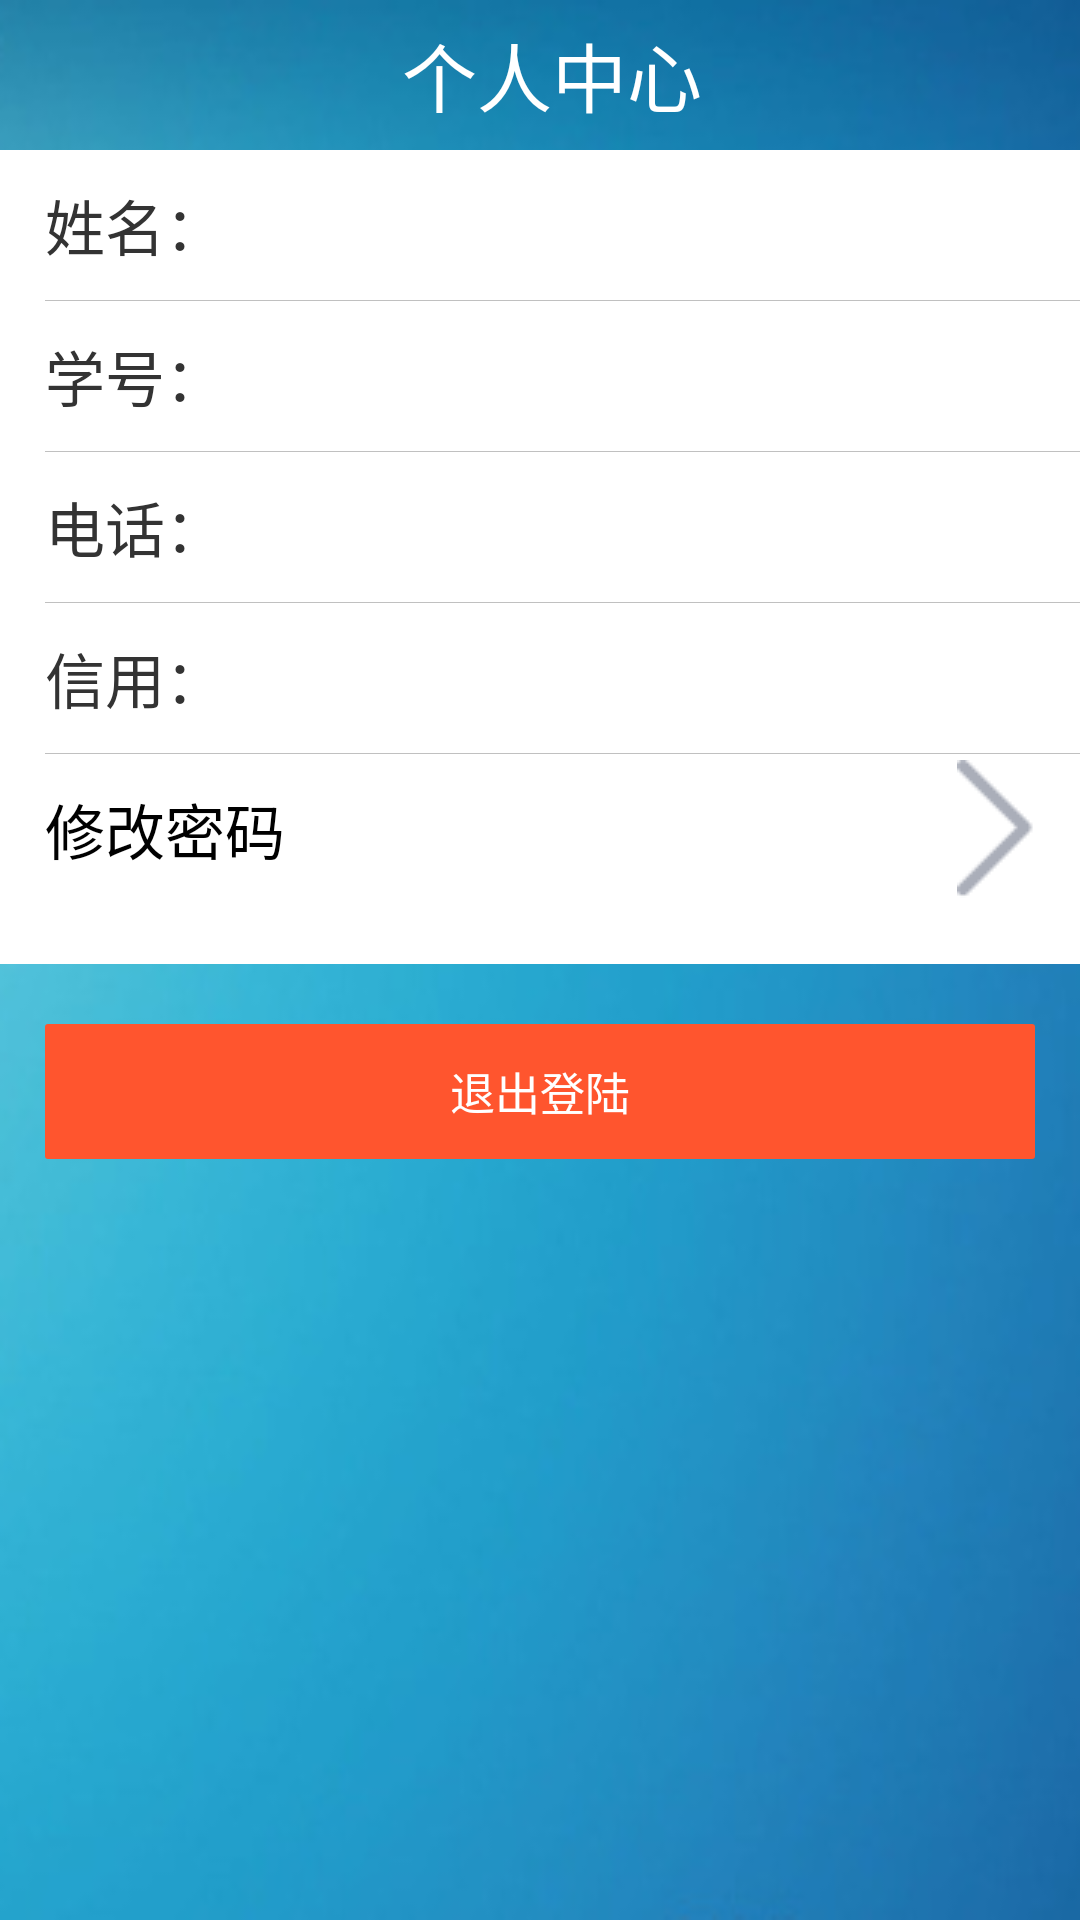

Icon click points for this 1080 x 1920 phone screenshot, format point (x, y):
selecte bank right: point (994, 828)
